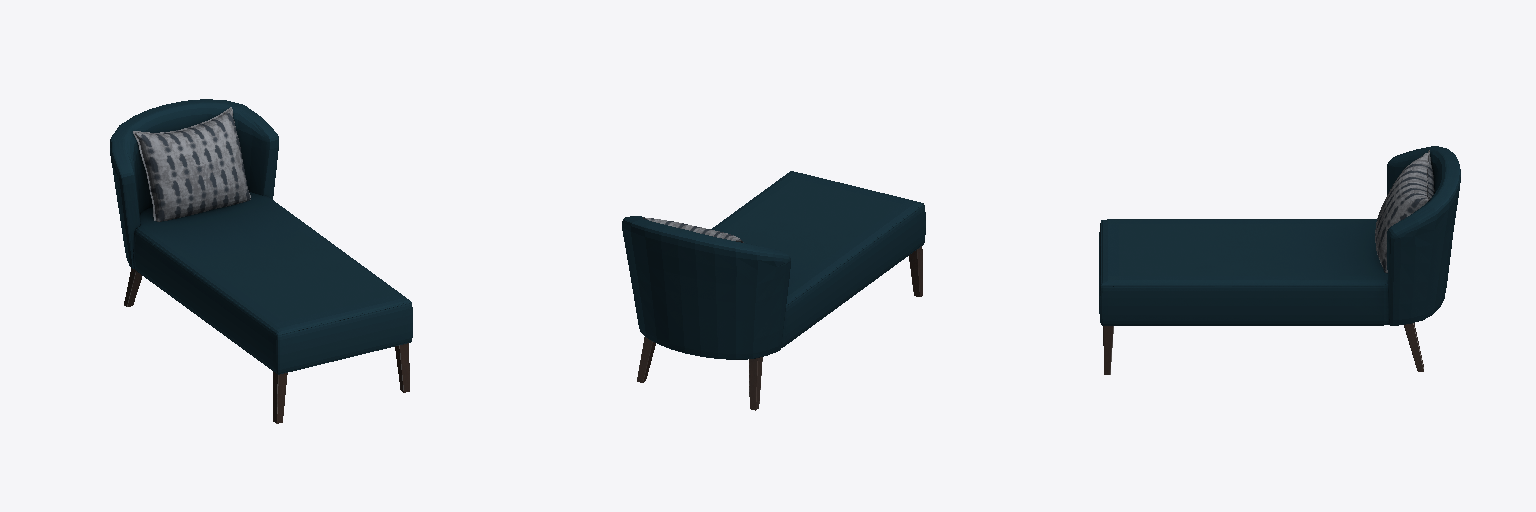
3 renders of one model, left to right at view 1: azimuth 30°, elevation 25°; view 2: azimuth 150°, elevation 25°; view 3: azimuth 270°, elevation 25°, orthographic.
Parts seen in each view (by area): view 1: solid_002, solid_001, solid_003; view 2: solid_002, solid_003; view 3: solid_002, solid_001, solid_003.
Part boxes in pixels (x1,y1,x2,y2): solid_002: (110,99,412,374); solid_001: (133,107,250,221); solid_003: (124,268,409,423); solid_002: (622,171,925,359); solid_003: (637,246,922,410); solid_002: (1099,146,1460,325); solid_001: (1375,150,1434,272); solid_003: (1103,323,1423,374).
Bounding box in the file's own units: 0.9325 × 0.8917 × 1.76.
Materials: 1 (1 with a texture image).